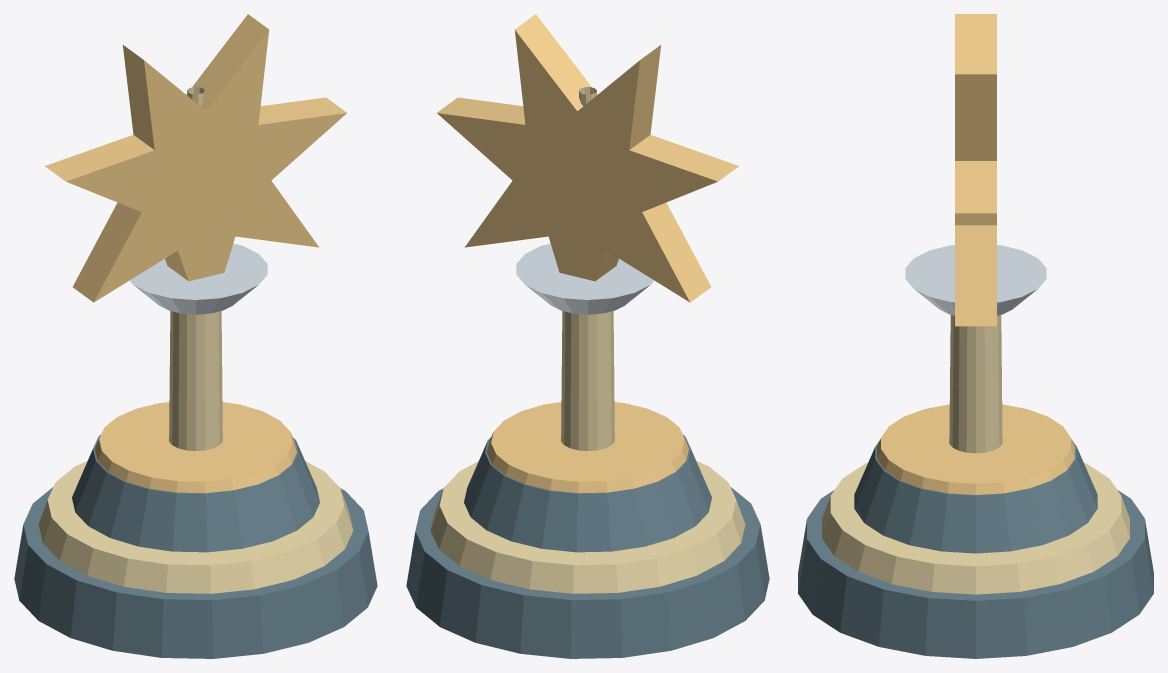
Rendered from third-saturday.glb.
3 views of the same model, side by side, from view 1: azimuth 30°, elevation 25°; view 2: azimuth 150°, elevation 25°; view 3: azimuth 270°, elevation 25° (orthographic).
Size of the model in its own units: 1.2 by 1.99 by 1.19.
